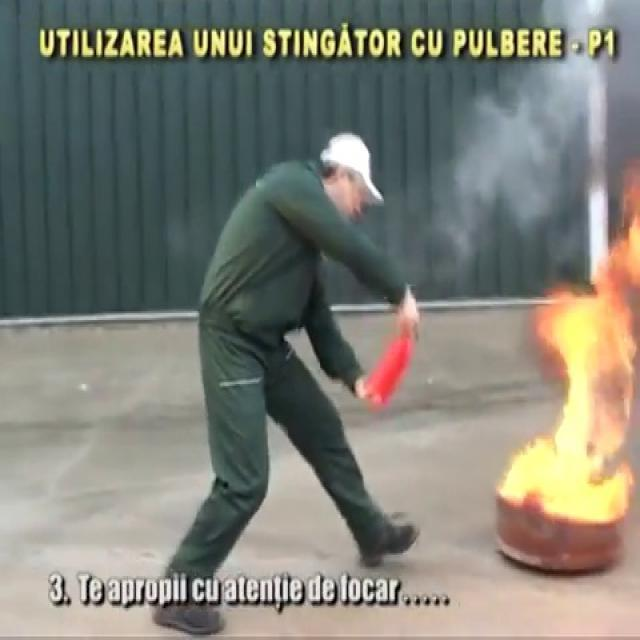Fire: (501, 247, 640, 507)
Smoke: (452, 60, 638, 242)
